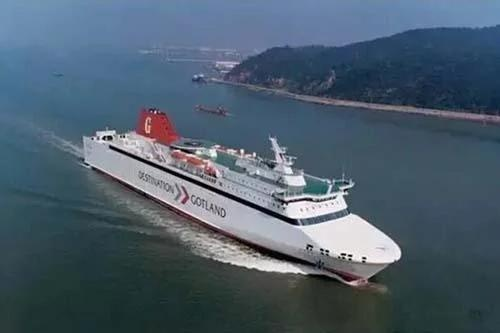warship: (68, 106, 406, 284)
